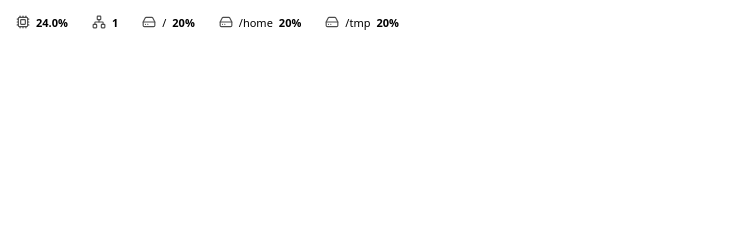
uses metric icons and displays socket state and endpoint details on hover
Check: the 1st icon is shown, box [16, 15, 30, 29]
Hover over the button named "Соединения: 1": (105, 22) [82, 8, 128, 36]
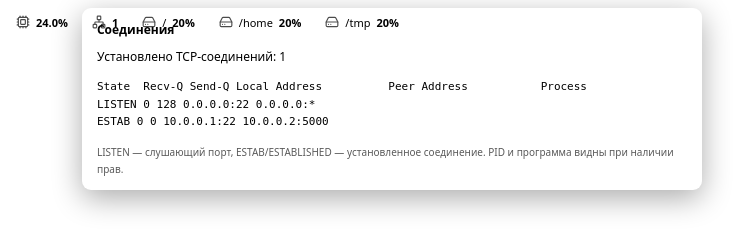
Check: the tooltip shows "0.0.0.0:22", box [97, 80, 587, 128]
Check: the tooltip shows "LISTEN", box [97, 80, 587, 128]
